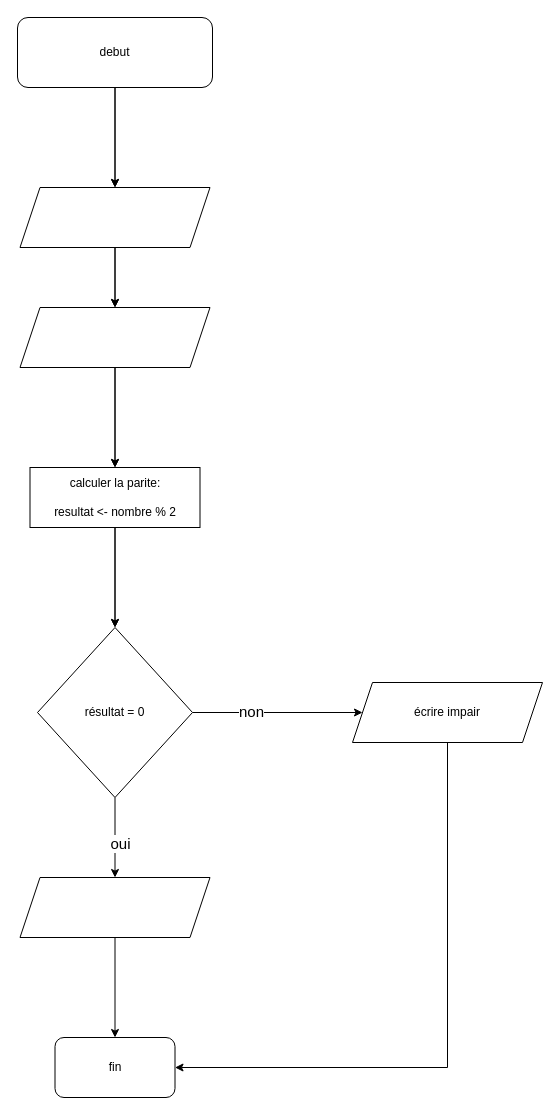
The diagram is 560 pixels wide and 1115 high, and some of its shapes have lost their labels. The centre of each missing label's shape, as x and y in pixels:
lire nombre: pixel 114 337
écrire nombre: pixel 114 217
écrire pair: pixel 114 907
